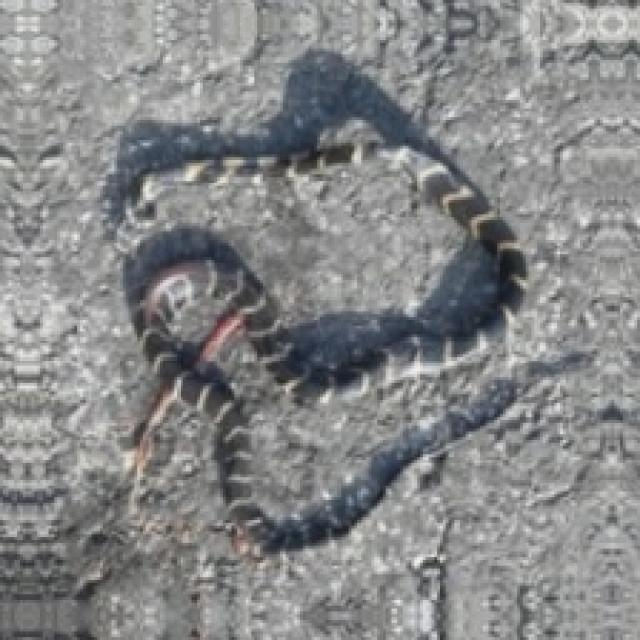king cobra: (106, 49, 523, 549)
